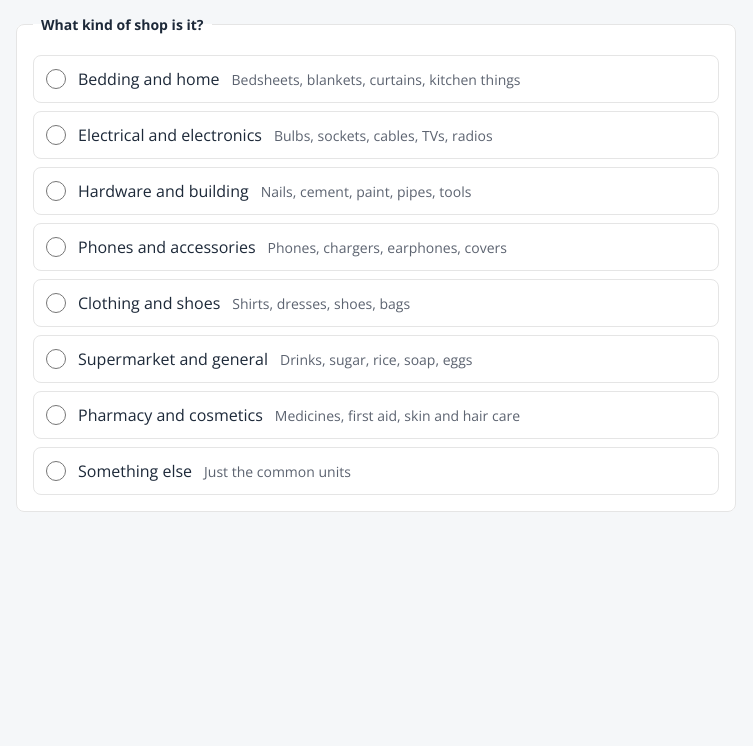
Scenario: Set up your shop (issue #625) › says a pack whose smaller unit is switched off is left out until it is switched on
Click the radio button labelled "Hardware and building Nails, cement, paint, pipes, tools": {"x": 56, "y": 191} x1=46 y1=181 x2=66 y2=201
(page scrolled)
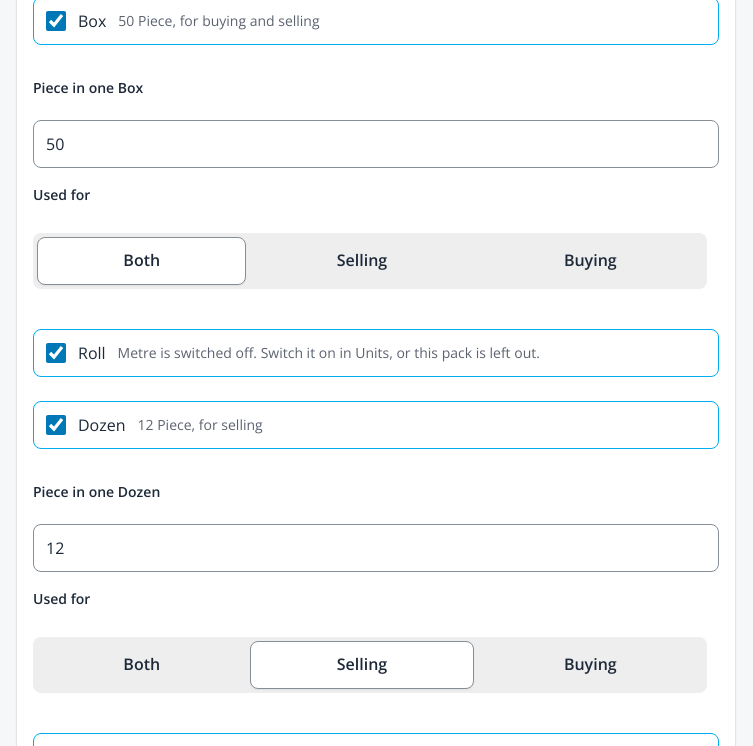
Result: the text "Metre is switched off. Switch it on in Units, or this pack is left out." is shown at x1=118 y1=342 x2=540 y2=363
